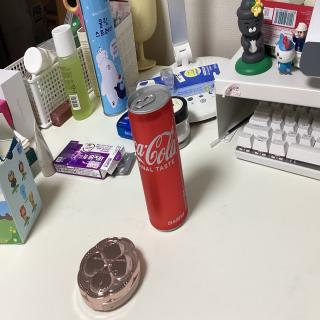cocacola: (127, 76, 192, 235)
